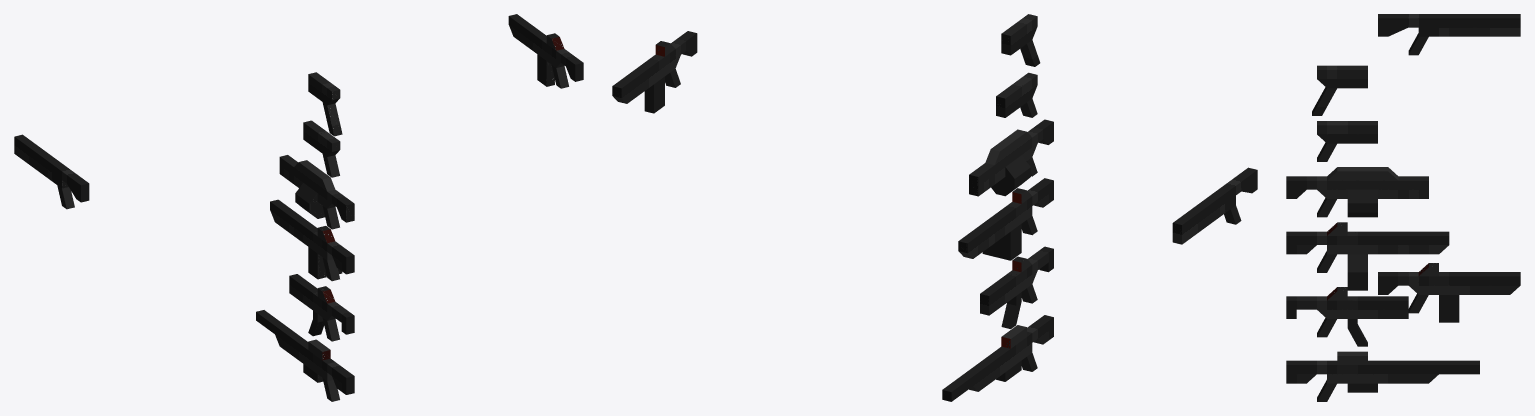
The model's file is Weapons.fbx.
The picture shows the model from 3 angles, left to right: view 1: azimuth 30°, elevation 25°; view 2: azimuth 150°, elevation 25°; view 3: azimuth 270°, elevation 25°; orthographic projection. The views are drawn at different scales.
Visible parts, largest first — view 1: Sniper_Rifle, Machinegun, Grenade_Launcher, Assault_Rifle, Submachinegun, Shotgun, Machine_Pistol, Pistol; view 2: Machinegun, Sniper_Rifle, Grenade_Launcher, Assault_Rifle, Submachinegun, Shotgun, Pistol, Machine_Pistol; view 3: Sniper_Rifle, Machinegun, Grenade_Launcher, Assault_Rifle, Shotgun, Submachinegun, Pistol, Machine_Pistol.
Part boxes in pixels (box(x1,y1,x2,y2)): Sniper_Rifle: box(256, 310, 354, 401); Machinegun: box(270, 199, 354, 281); Grenade_Launcher: box(279, 155, 354, 229); Assault_Rifle: box(508, 14, 583, 88); Submachinegun: box(289, 274, 354, 341); Shotgun: box(14, 134, 89, 209); Machine_Pistol: box(308, 72, 342, 136); Pistol: box(303, 120, 340, 177); Machinegun: box(958, 178, 1053, 260); Sniper_Rifle: box(942, 315, 1053, 401); Grenade_Launcher: box(969, 119, 1053, 196); Assault_Rifle: box(612, 31, 697, 113); Submachinegun: box(980, 246, 1053, 329); Shotgun: box(1172, 167, 1257, 244); Pistol: box(996, 72, 1037, 117); Machine_Pistol: box(1001, 14, 1040, 66); Sniper_Rifle: box(1286, 351, 1479, 401); Machinegun: box(1286, 222, 1449, 290); Grenade_Launcher: box(1286, 167, 1428, 217); Assault_Rifle: box(1378, 263, 1520, 322); Shotgun: box(1378, 14, 1520, 55); Submachinegun: box(1286, 287, 1408, 346); Pistol: box(1317, 121, 1377, 161); Machine_Pistol: box(1312, 65, 1367, 115).
Bounding box in the file's own units: 610 × 360 × 230.
1 material, 1 textured.
